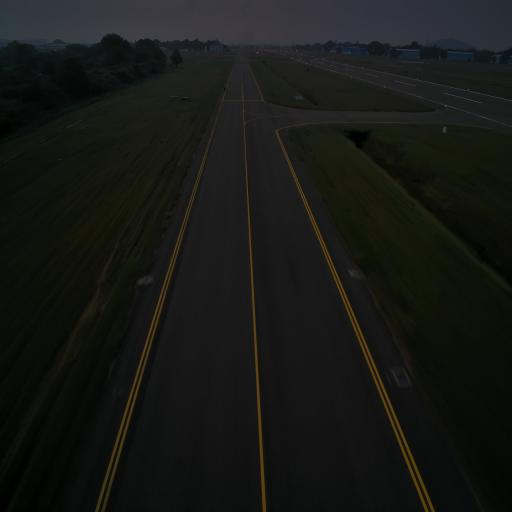on: (350, 265, 355, 276), (148, 273, 152, 280), (283, 131, 286, 135), (204, 131, 206, 136)
